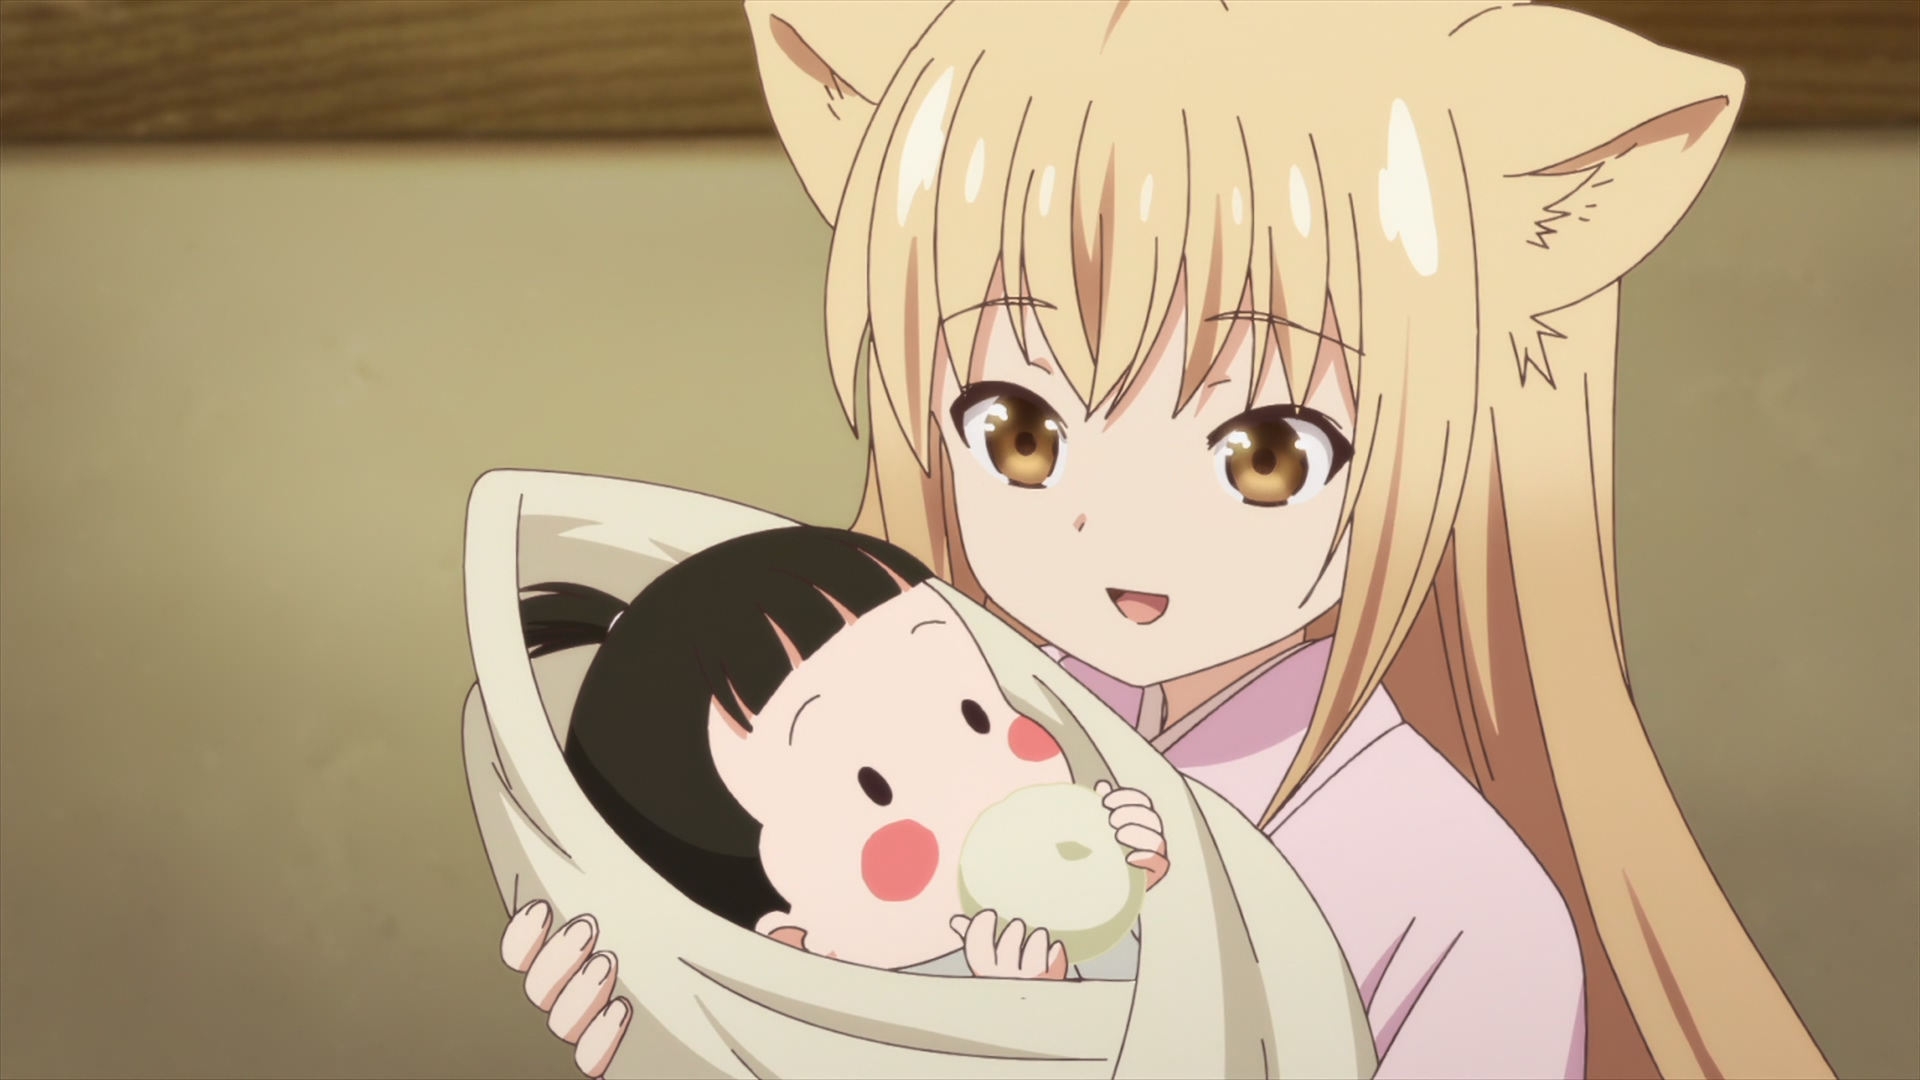其他: (459, 465, 1378, 1080)
柚: (741, 1, 1841, 1080)
